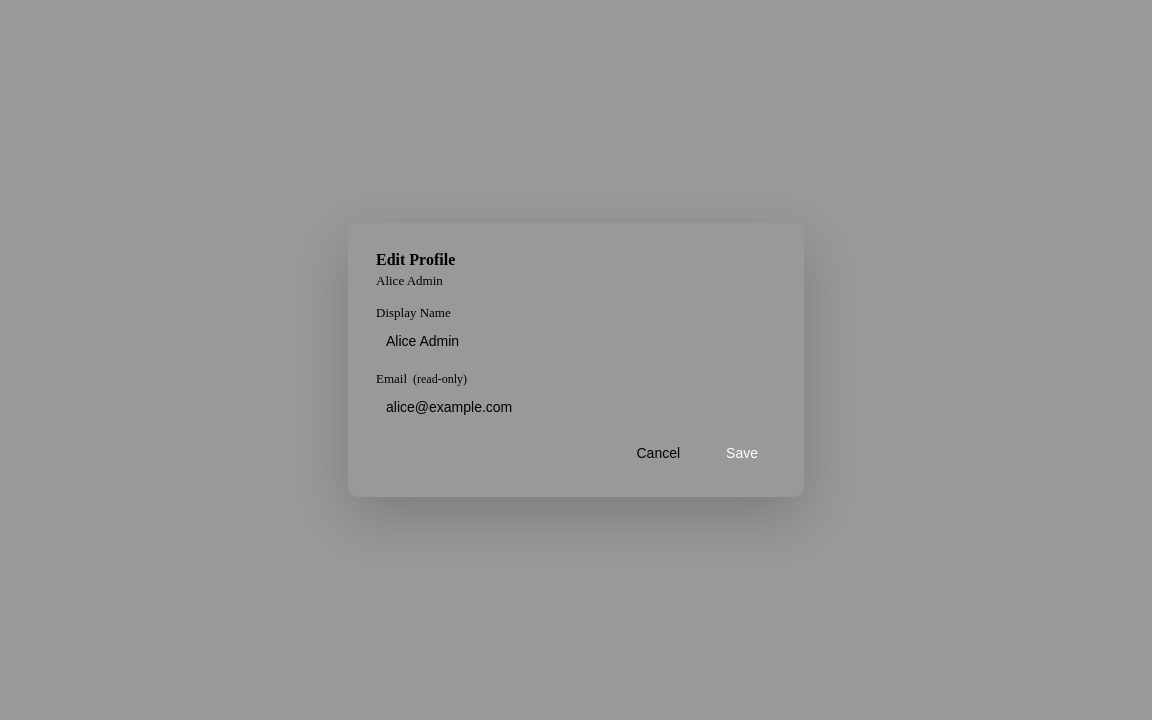
Test: EditProfileModal — error banner › dismisses banner when ✕ is clicked
Click the button "Save" at (742, 453), box [708,437,776,469]
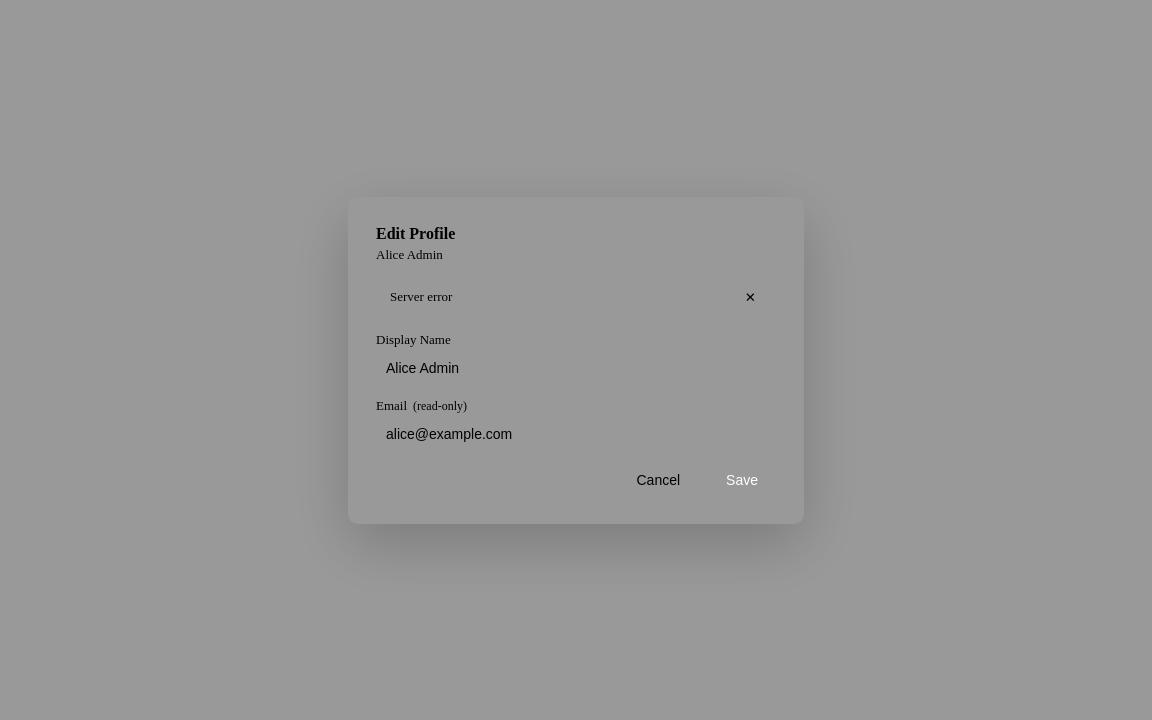
Check: the message "Server error ✕" is shown, box [390,288,762,306]
Click the button named "Dismiss error" at (750, 297), box [739,288,762,306]
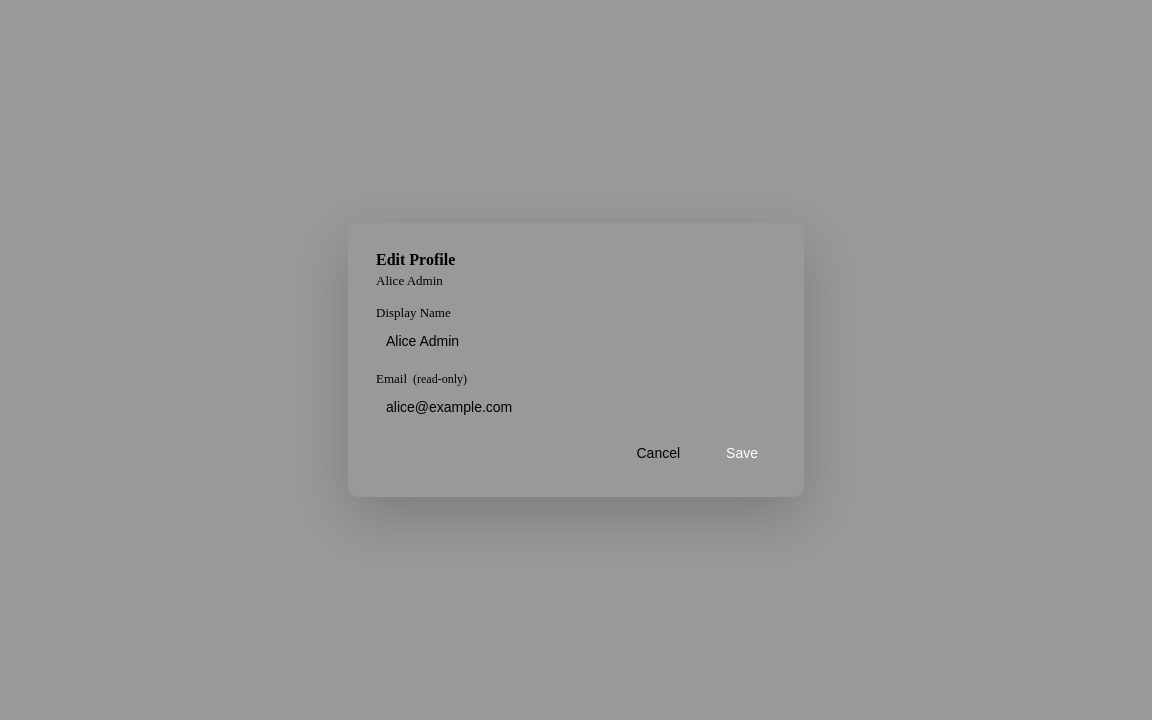
Check: the message "Server error ✕" is gone
